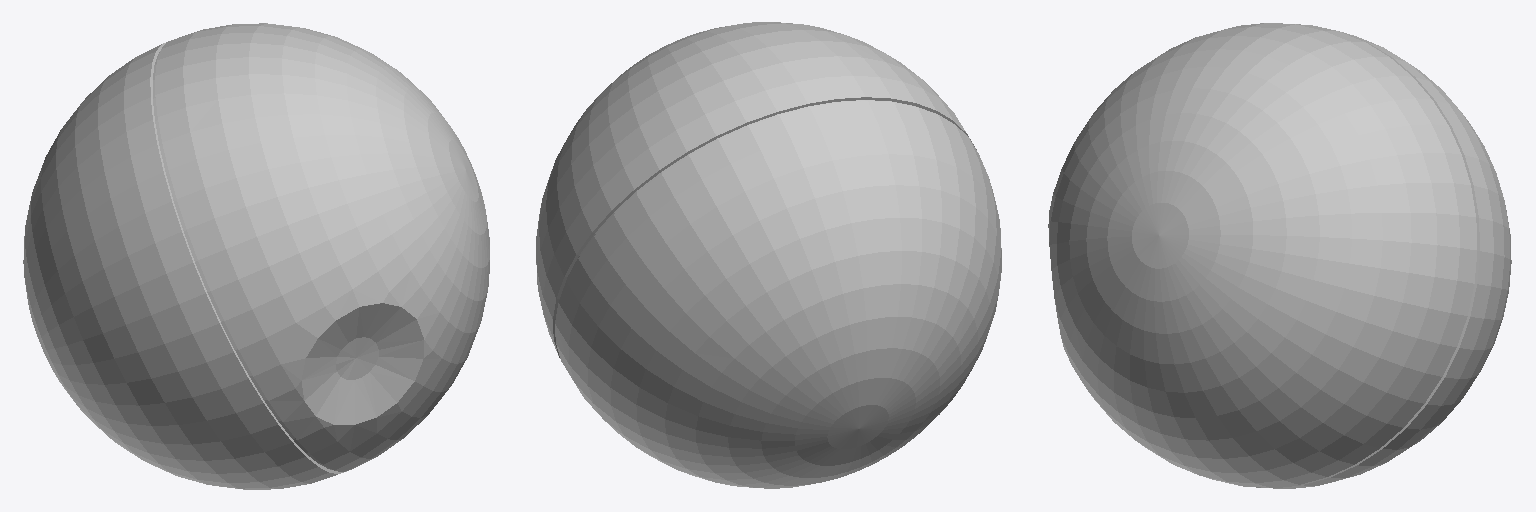
The picture shows the model from 3 angles: view 1: azimuth 30°, elevation 25°; view 2: azimuth 150°, elevation 25°; view 3: azimuth 270°, elevation 25°; orthographic projection.
Parts seen in each view (by area): view 1: Death_Star:Mesh; view 2: Death_Star:Mesh; view 3: Death_Star:Mesh.
Boxes of the visible parts, <box> form: Death_Star:Mesh: <box>23,23,489,489</box>; Death_Star:Mesh: <box>536,22,1001,488</box>; Death_Star:Mesh: <box>1048,23,1511,488</box>.
Size of the model in its own units: 4.3 by 4.29 by 4.26.